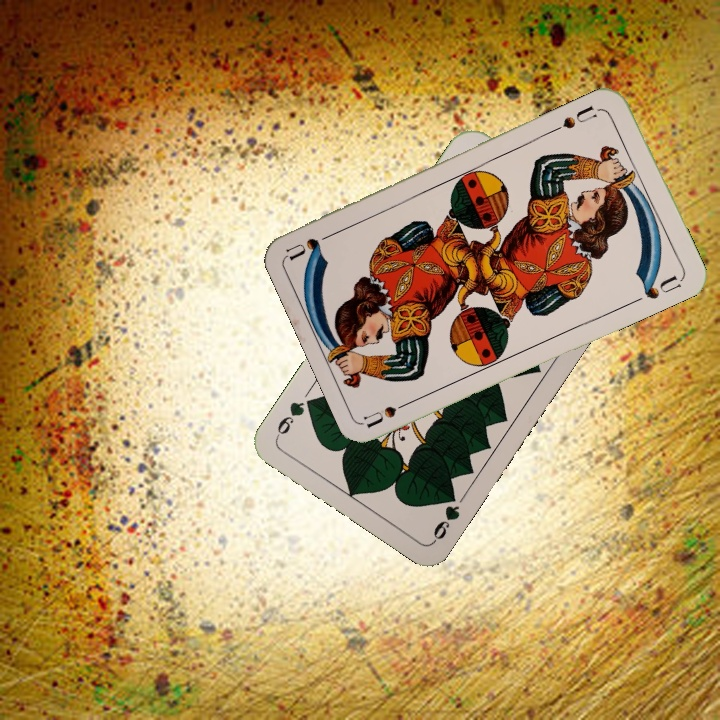G9: (429, 486, 463, 545)
SU: (361, 394, 419, 430), (549, 101, 600, 135)
